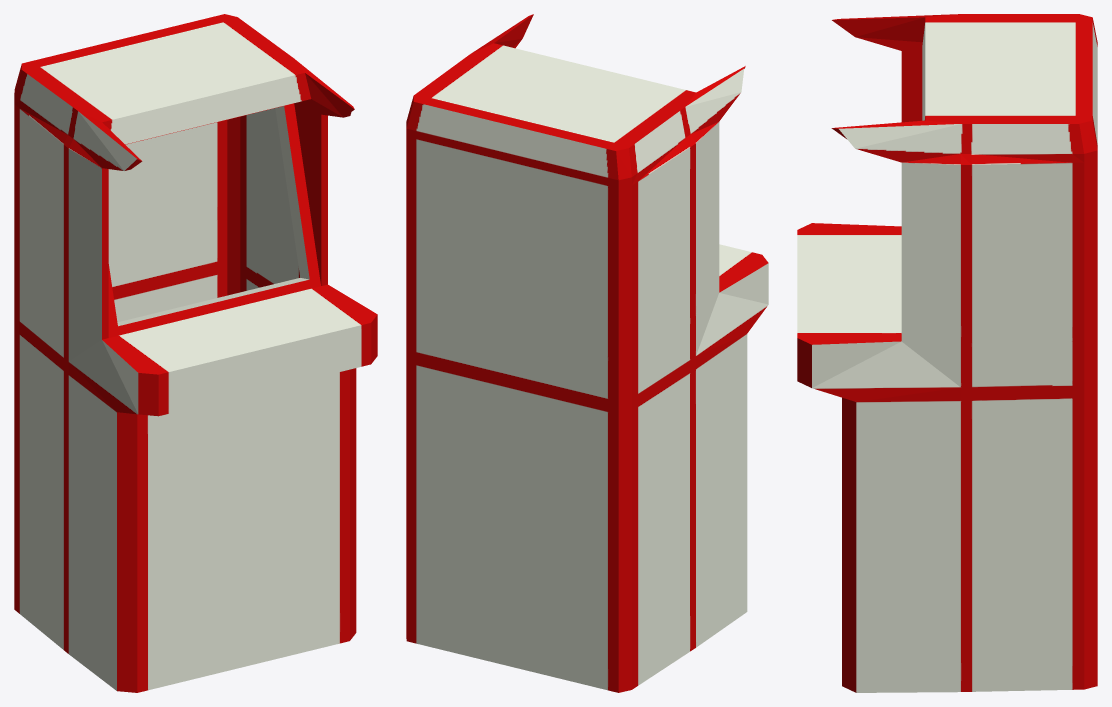
File: Arcade1.obj
The picture shows the model from 3 angles, left to right: view 1: azimuth 30°, elevation 25°; view 2: azimuth 150°, elevation 25°; view 3: azimuth 270°, elevation 25°; orthographic projection. The views are drawn at different scales.
Visible parts, largest first — view 1: Cube; view 2: Cube; view 3: Cube.
Part boxes in pixels (x1=…): Cube: x1=14, y1=14, x2=377, y2=692; Cube: x1=406, y1=14, x2=768, y2=692; Cube: x1=797, y1=14, x2=1097, y2=692.
Bounding box in the file's own units: 1.91 × 4.11 × 1.99.
